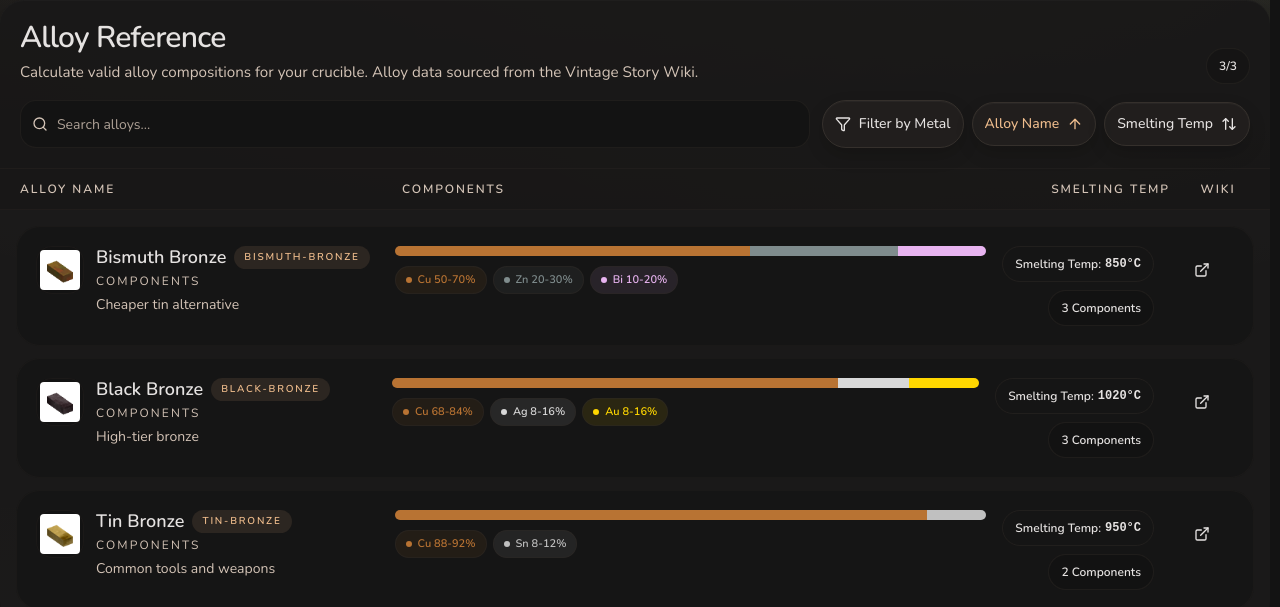
Test case: AlloyReferenceTable › filters recipes from the reference search input
Expected: the heading "Tin Bronze" is shown, [96,510,184,533]
Expected: the heading "Bismuth Bronze" is shown, [96,246,226,269]
Type "black" into the field.
click(415, 124); type("black")  # box [20,100,810,148]
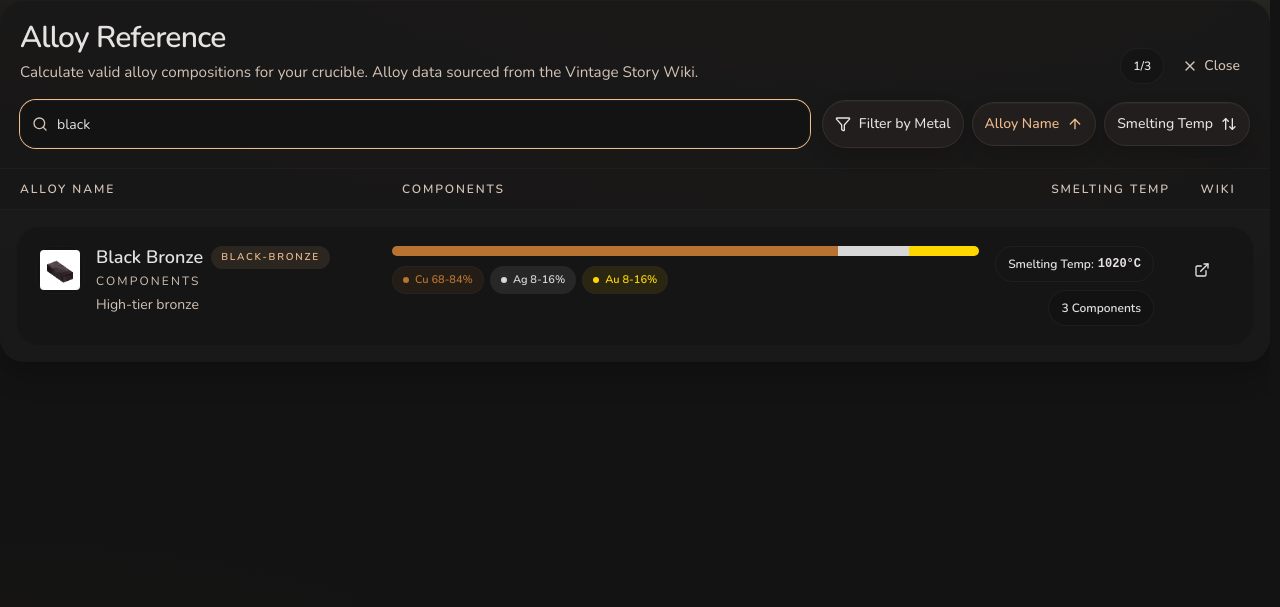
Expected: the heading "Black Bronze" is shown, [96,246,203,269]
Expected: the heading "Tin Bronze" is gone
